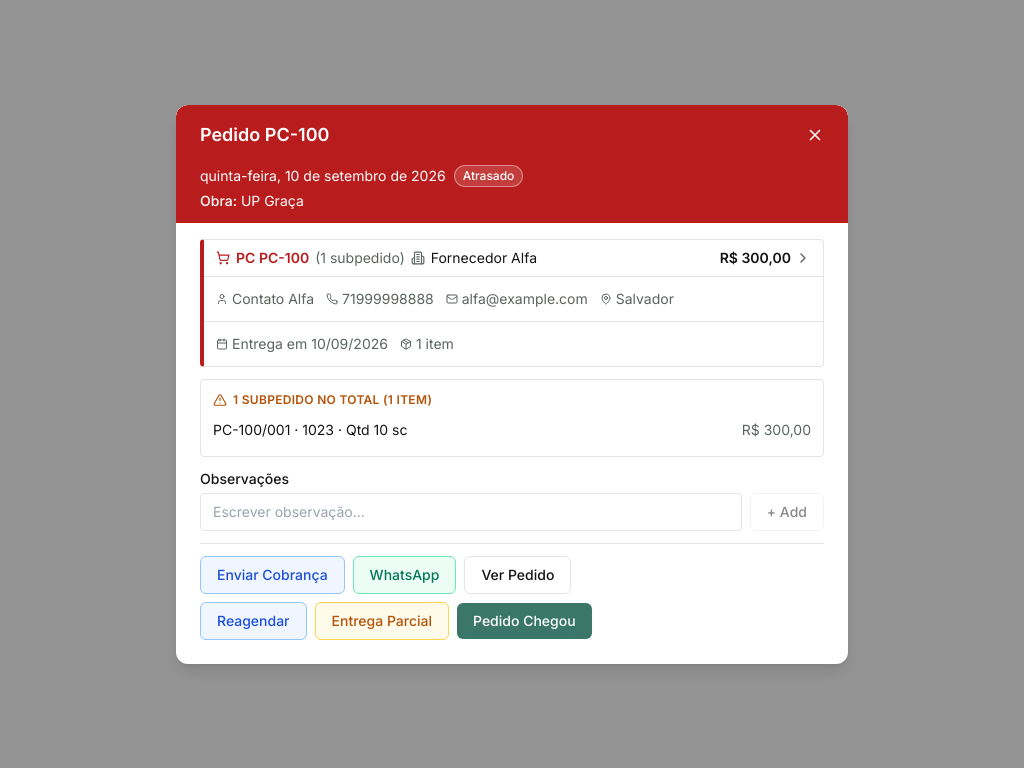
Test: DeliveryOrderDetailModal › abre a lista de Entrega Parcial ao clicar no botão correspondente
Click the button "Entrega Parcial". click: [382, 620]
box: x1=314 y1=602 x2=449 y2=640
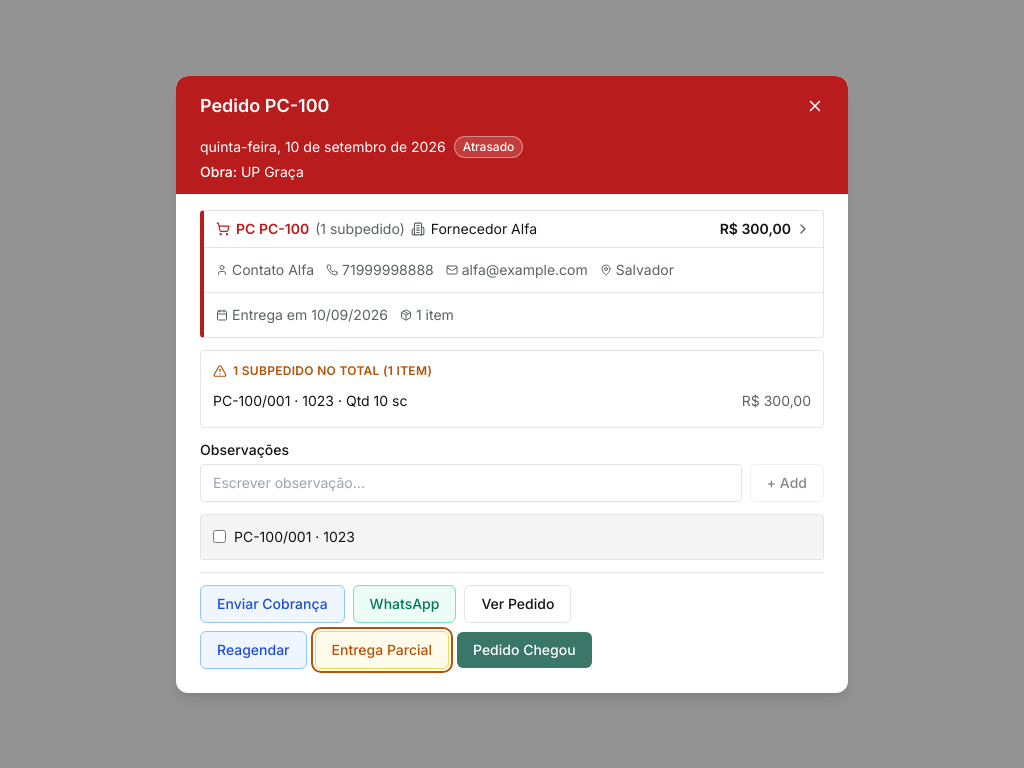
Now the checkbox is shown, box x1=213 y1=530 x2=226 y2=543
